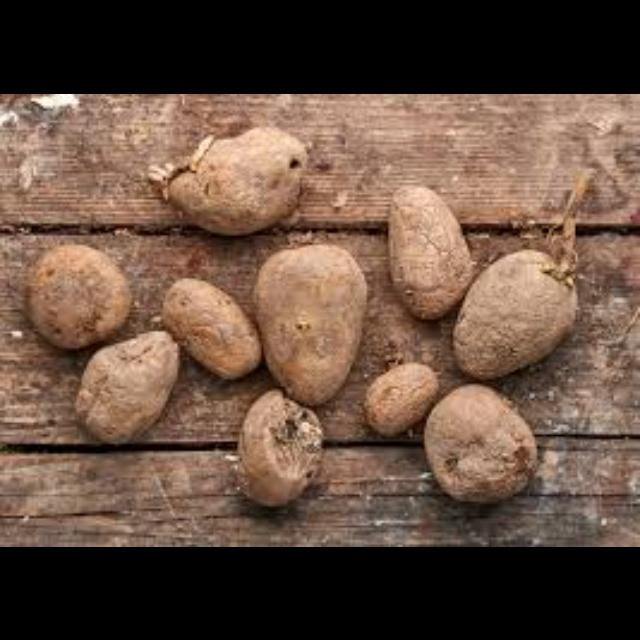Damaged potato: (432, 376, 548, 502), (236, 394, 334, 506)
Diseased-fungal potato: (254, 247, 372, 397), (457, 243, 588, 377), (78, 328, 180, 450), (390, 182, 480, 318), (28, 250, 132, 352), (165, 282, 265, 382), (355, 363, 445, 432)
Sprouted potato: (146, 126, 306, 238), (149, 158, 179, 192), (184, 135, 216, 165)
